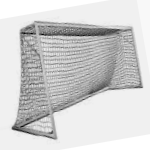goals: (10, 18, 145, 141)
